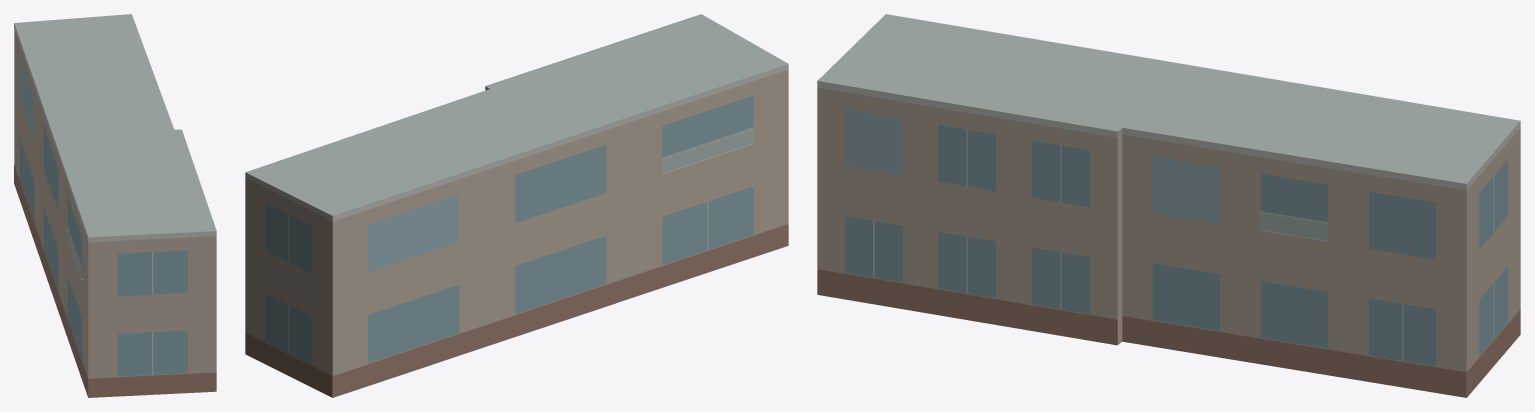
The model's file is survey-upis-32540949.glb.
The picture shows the model from 3 angles, left to right: view 1: azimuth 30°, elevation 25°; view 2: azimuth 150°, elevation 25°; view 3: azimuth 270°, elevation 25°; orthographic projection. The views are drawn at different scales.
Parts seen in each view (by area): view 1: survey-upis-32540949.tmp; view 2: survey-upis-32540949.tmp; view 3: survey-upis-32540949.tmp.
Part boxes in pixels (x1,y1,x2,y2): survey-upis-32540949.tmp: (14,14,216,397); survey-upis-32540949.tmp: (245,14,788,397); survey-upis-32540949.tmp: (817,14,1520,397).
Size of the model in its own units: 13.3 by 7.8 by 23.26.
